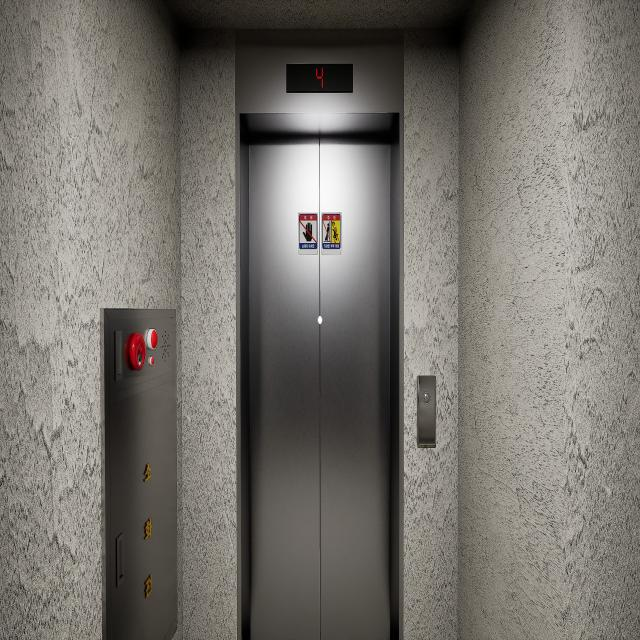elevator: (234, 39, 439, 640)
